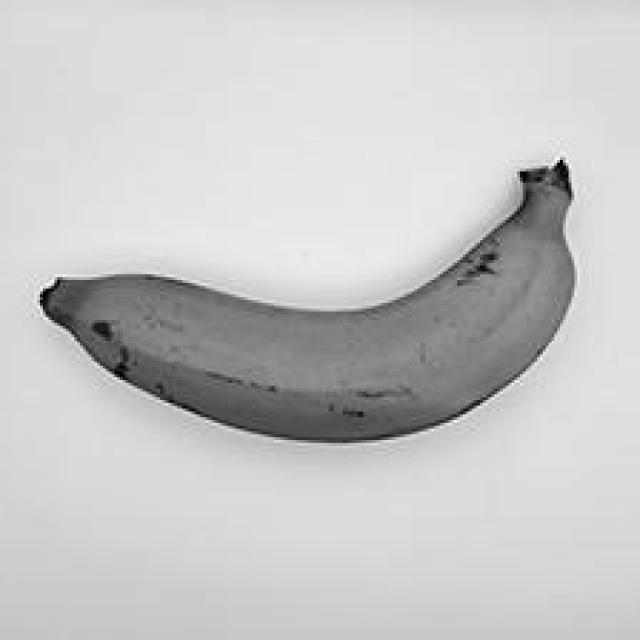Raw: (22, 148, 620, 459)
